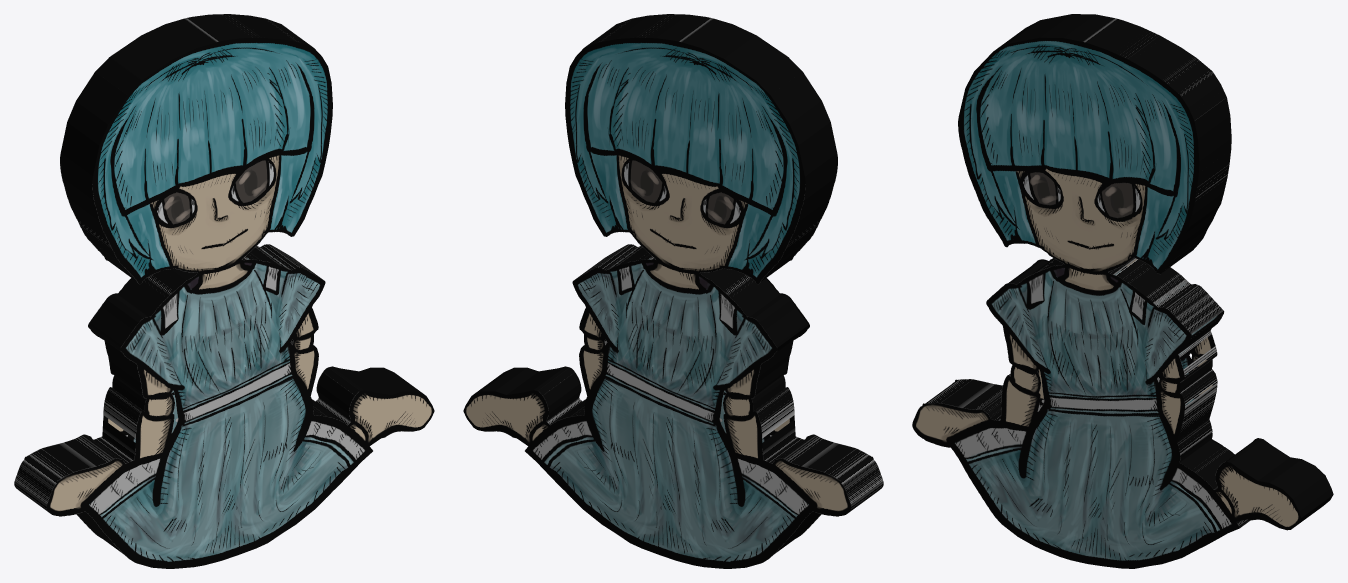
Rendered from Doll_cyan.fbx.
The picture shows the model from 3 angles, left to right: view 1: azimuth 30°, elevation 25°; view 2: azimuth 150°, elevation 25°; view 3: azimuth 330°, elevation 25°; orthographic projection.
Parts seen in each view (by area): view 1: RealDoll_cyan; view 2: RealDoll_cyan; view 3: RealDoll_cyan.
Part boxes in pixels (x1,y1,x2,y2): RealDoll_cyan: [14, 14, 434, 568]; RealDoll_cyan: [463, 14, 883, 568]; RealDoll_cyan: [912, 14, 1333, 568].
Bounding box in the file's own units: 68.46 × 87.7 × 9.87.
1 material, 1 textured.
